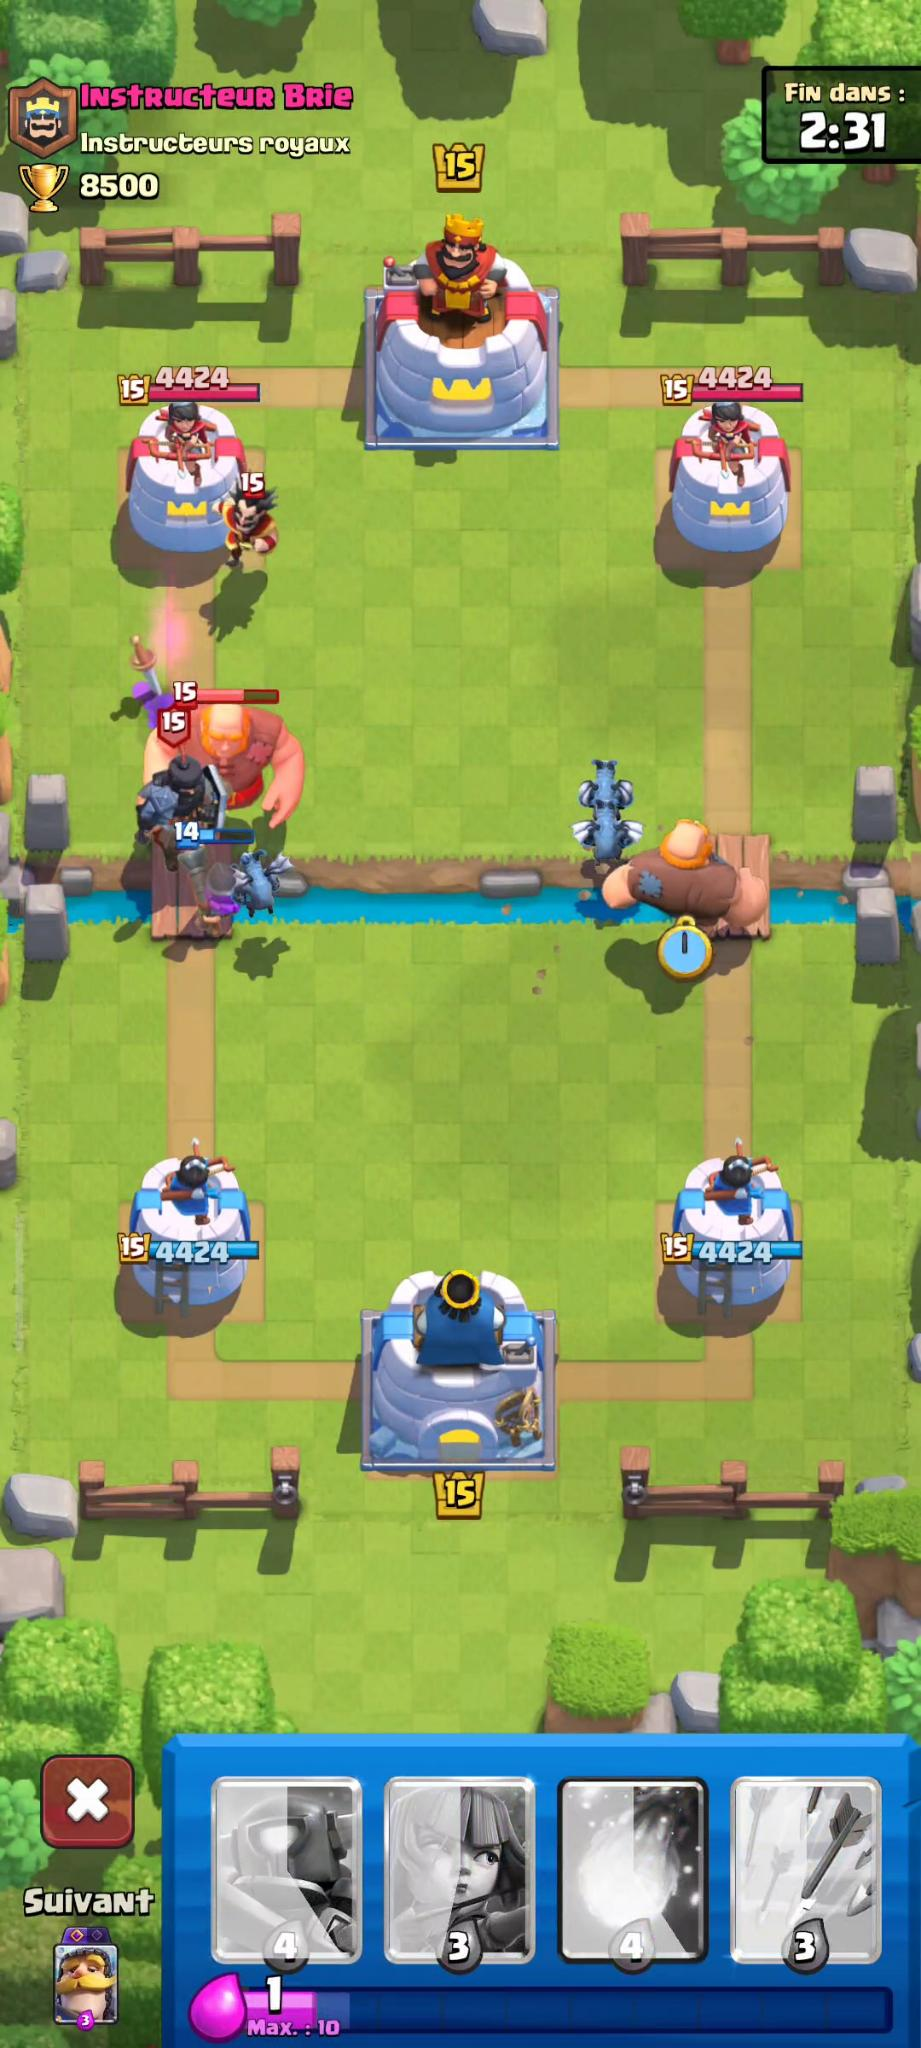gargouille: (574, 795, 644, 871), (579, 758, 638, 825), (234, 850, 285, 922)
geant: (136, 686, 304, 842), (601, 820, 773, 950)
mousquetaire: (184, 883, 235, 950)
